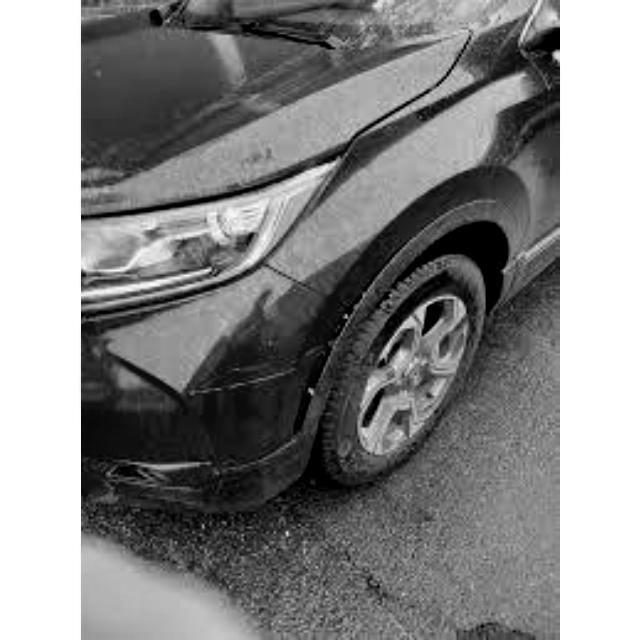front-bumper-dent: (83, 265, 401, 512)
